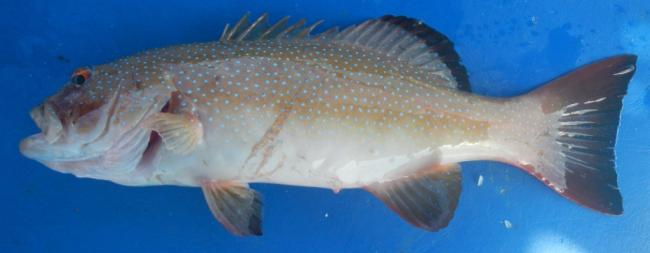fish: (19, 9, 637, 238)
